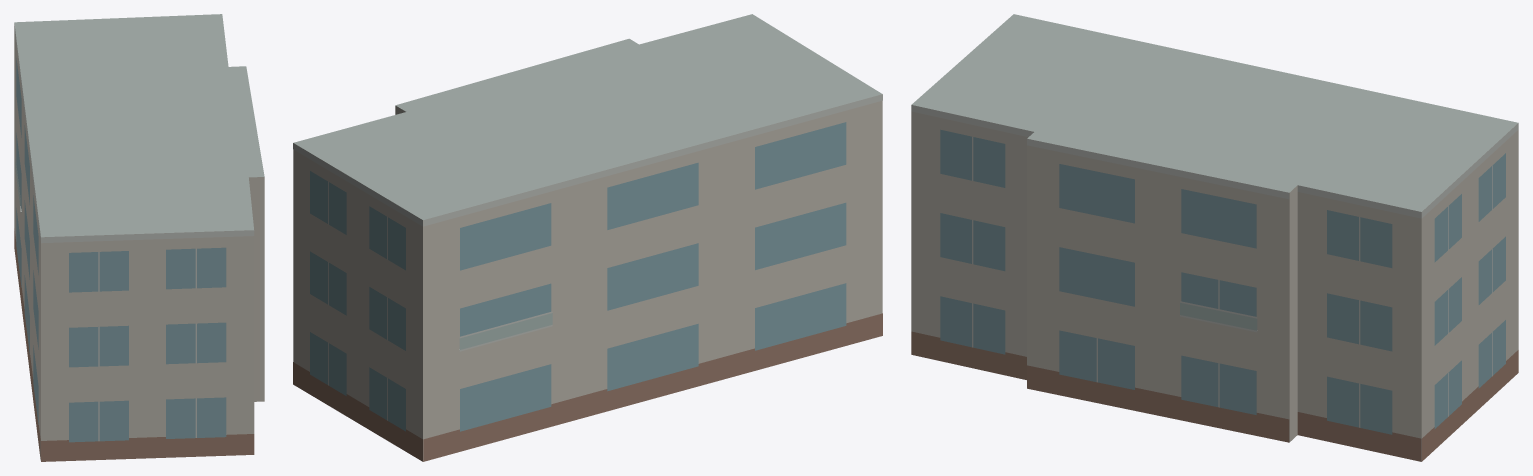
Rendered from survey-upis-32705014.glb.
3 renders of one model, left to right at view 1: azimuth 30°, elevation 25°; view 2: azimuth 150°, elevation 25°; view 3: azimuth 270°, elevation 25°, orthographic. The views are drawn at different scales.
Parts seen in each view (by area): view 1: survey-upis-32705014.tmp; view 2: survey-upis-32705014.tmp; view 3: survey-upis-32705014.tmp.
Boxes of the visible parts, bbox=[...] form: survey-upis-32705014.tmp: bbox=[14, 14, 264, 461]; survey-upis-32705014.tmp: bbox=[293, 14, 882, 461]; survey-upis-32705014.tmp: bbox=[911, 14, 1518, 461].
Bounding box in the file's own units: 15.56 × 9.15 × 20.16.
